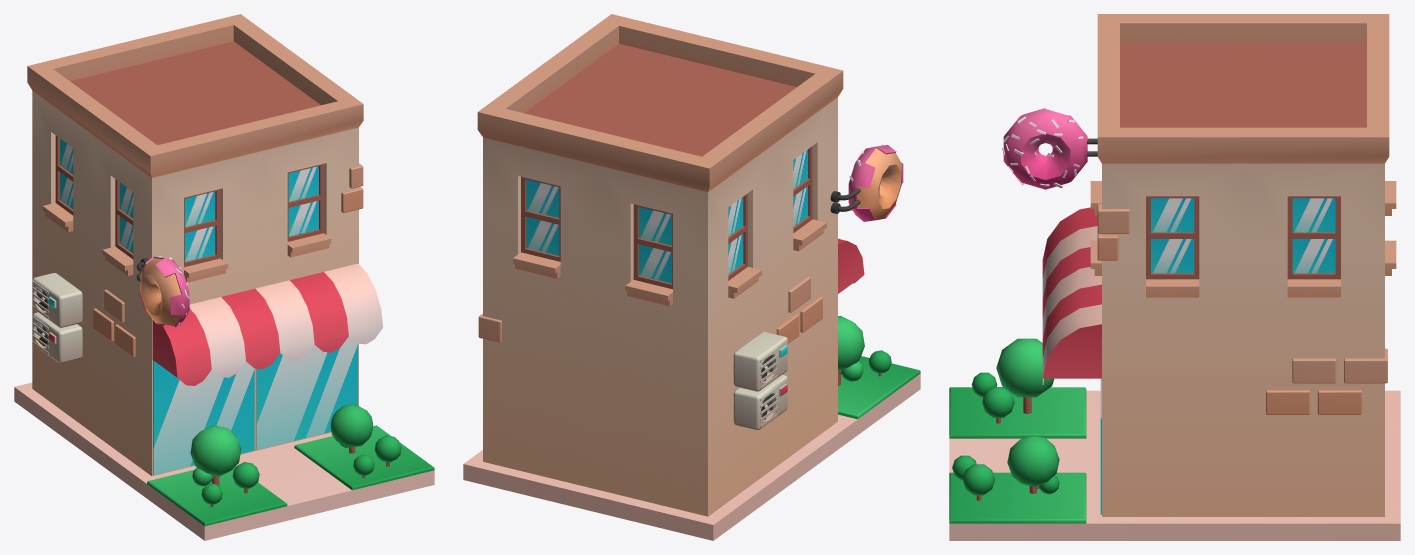
Rendered from donut_shop.glb.
3 views of the same model, side by side, from view 1: azimuth 30°, elevation 25°; view 2: azimuth 150°, elevation 25°; view 3: azimuth 270°, elevation 25° (orthographic). The views are drawn at different scales.
Parts seen in each view (by area): view 1: DonutShop; view 2: DonutShop; view 3: DonutShop.
Part boxes in pixels (x1=…): DonutShop: x1=14, y1=14, x2=434, y2=540; DonutShop: x1=463, y1=14, x2=920, y2=540; DonutShop: x1=949, y1=14, x2=1400, y2=540.
Bounding box in the file's own units: 2.36 × 3.11 × 3.19.
1 material, 1 textured.
